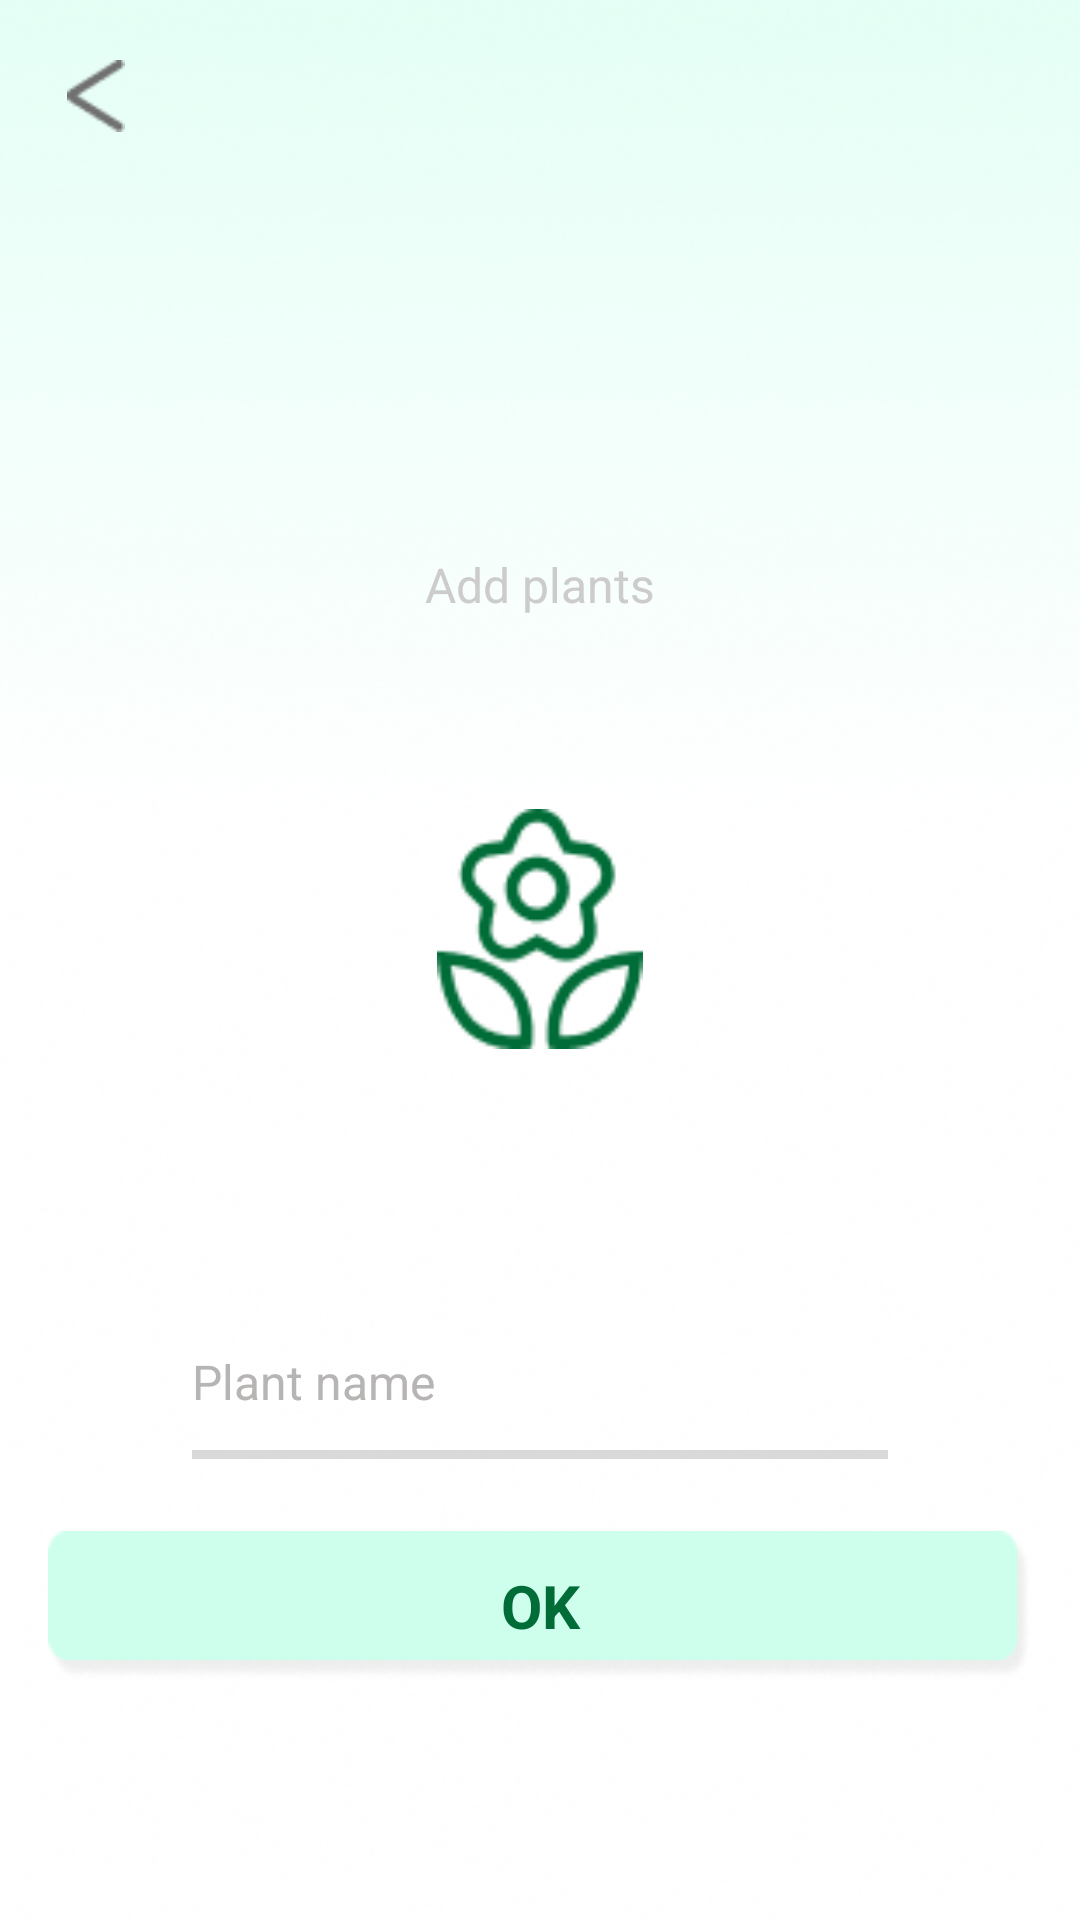

Where icons sit on this 1080px x 1920px app screen, as detection(x1, y1, x2, y2):
back: detection(67, 60, 125, 132)
community flower: detection(437, 809, 643, 1049)
